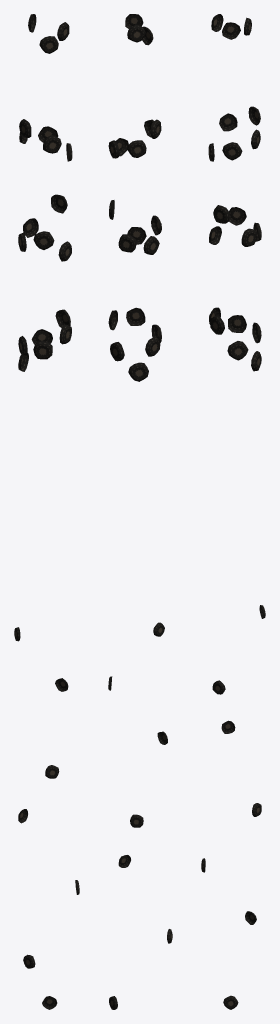
The model's file is Sitka_OldLarge_01_HighPruned_Healed_LOD2.fbx.
3 renders of one model, left to right at view 1: azimuth 90°, elevation 25°; view 2: azimuth 210°, elevation 25°; view 3: azimuth 270°, elevation 25°, orthographic.
Visible parts, largest first — view 1: Sitka_OldLarge_01_HighPruned_Healed_LOD2_Scars; view 2: Sitka_OldLarge_01_HighPruned_Healed_LOD2_Scars; view 3: Sitka_OldLarge_01_HighPruned_Healed_LOD2_Scars.
Part boxes in pixels (x1,y1,x2,y2): Sitka_OldLarge_01_HighPruned_Healed_LOD2_Scars: (14,14,79,1009); Sitka_OldLarge_01_HighPruned_Healed_LOD2_Scars: (108,14,172,1009); Sitka_OldLarge_01_HighPruned_Healed_LOD2_Scars: (201,14,265,1009).
Size of what is drawn, in the model's own units: 59.96 by 1004 by 59.38.
2 materials, 2 textured.
